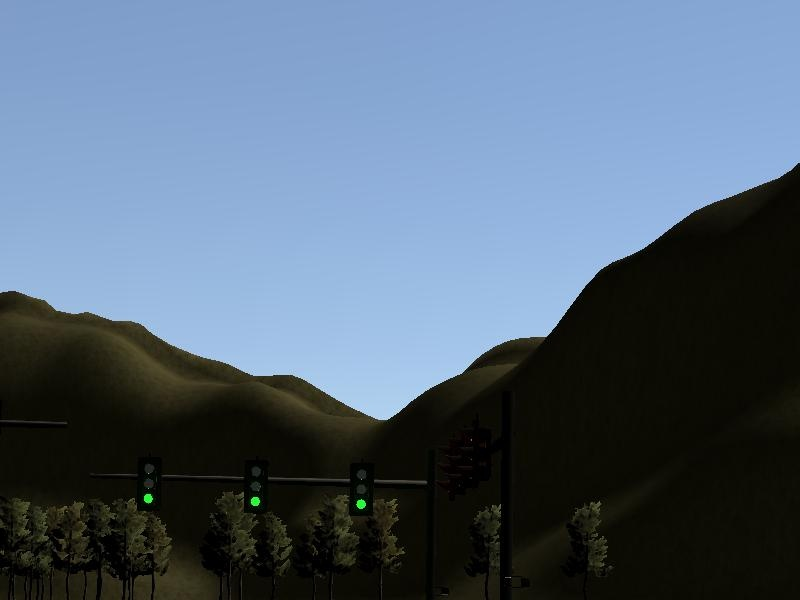green: (349, 464, 372, 515), (137, 459, 160, 510), (245, 459, 268, 510)
